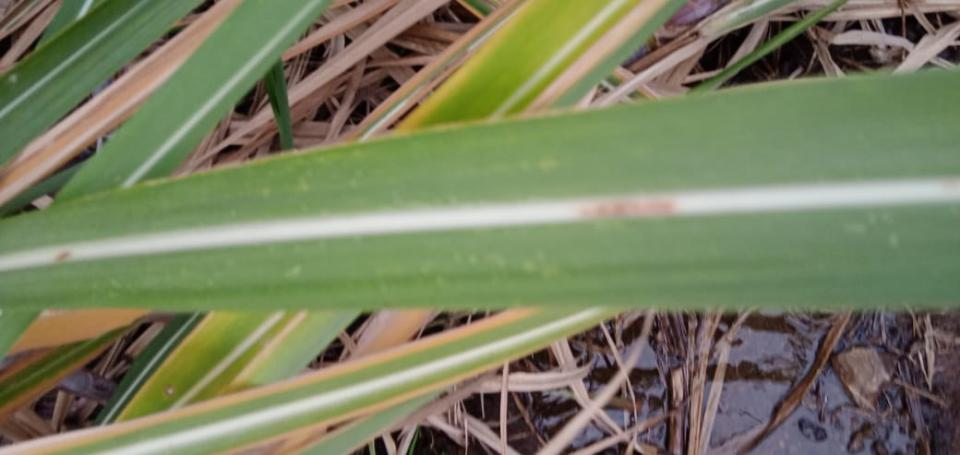RedRot: (573, 200, 677, 220), (55, 250, 71, 263)
